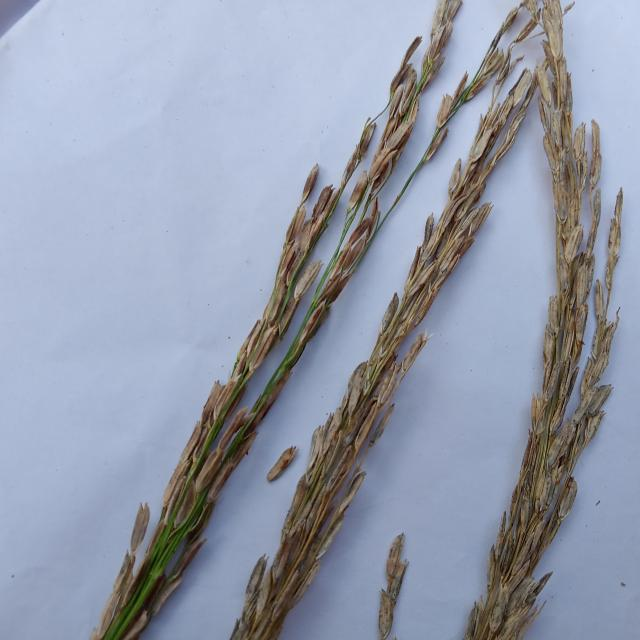Neck_Blast: (239, 56, 546, 640), (160, 15, 469, 528), (447, 0, 625, 640)
